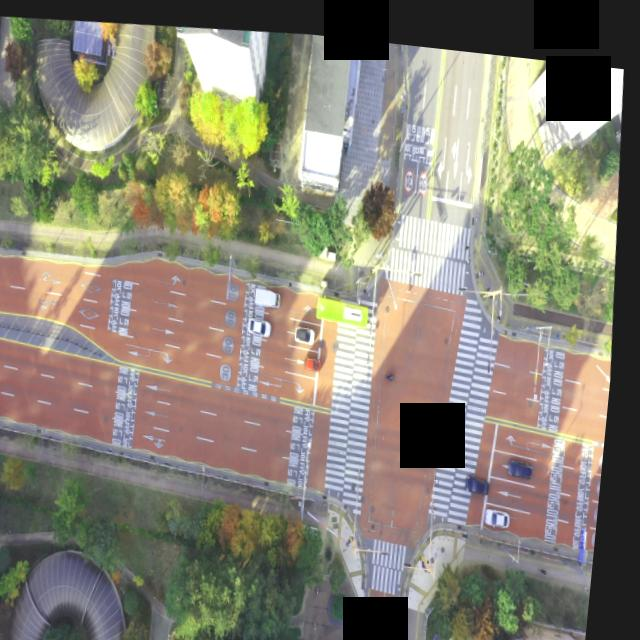car: (474, 464, 501, 486), (517, 446, 543, 468), (492, 495, 518, 516), (253, 310, 277, 330), (300, 317, 321, 336), (311, 346, 329, 365)
large_bus: (318, 283, 378, 319)
small_truck: (257, 279, 286, 305)
